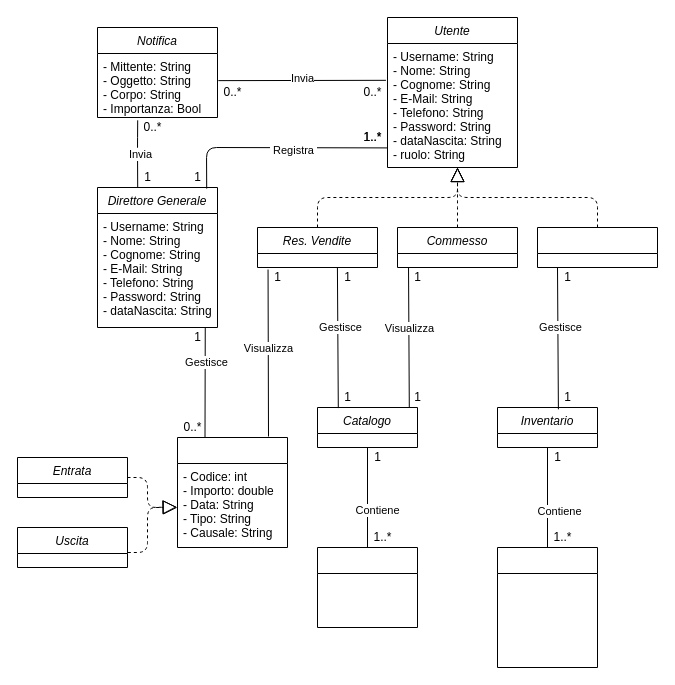
Image size: 675x685. Some labels were removed from this diagram. Here are the shapes that lost their labels. From the top down, the box of each, then its label:
(536, 226, 658, 268): Magazziniere
(176, 436, 288, 548): Finanza
(316, 546, 418, 628): ProdottoCat
(496, 546, 598, 668): ProdottoInv
